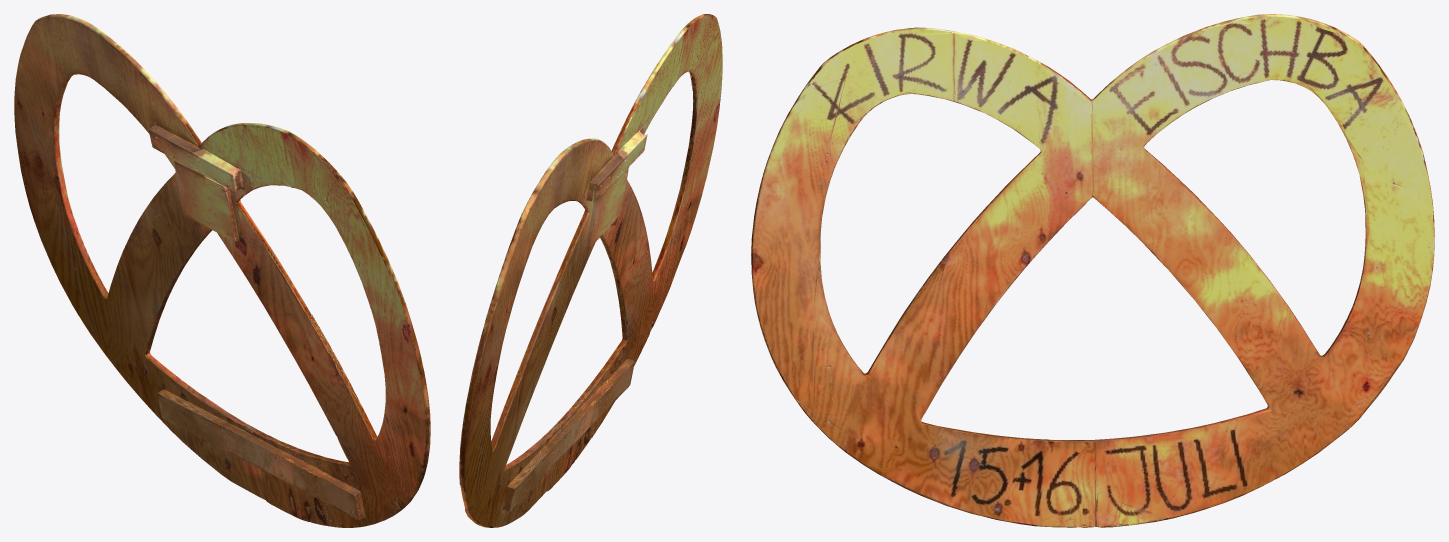
File: 9071D540-2E9C-8645-BBF5-72E13DFEF517_512.glb
3 views of the same model, side by side, from view 1: azimuth 30°, elevation 25°; view 2: azimuth 150°, elevation 25°; view 3: azimuth 270°, elevation 25° (orthographic). The views are drawn at different scales.
Parts seen in each view (by area): view 1: Holzbreze_40k_512; view 2: Holzbreze_40k_512; view 3: Holzbreze_40k_512.
Boxes of the visible parts, <box> form: Holzbreze_40k_512: <box>14,14,430,527</box>; Holzbreze_40k_512: <box>459,14,722,527</box>; Holzbreze_40k_512: <box>751,14,1434,527</box>.
Size of the model in its own units: 0.5044 by 1.77 by 2.35.
1 material, 1 textured.
